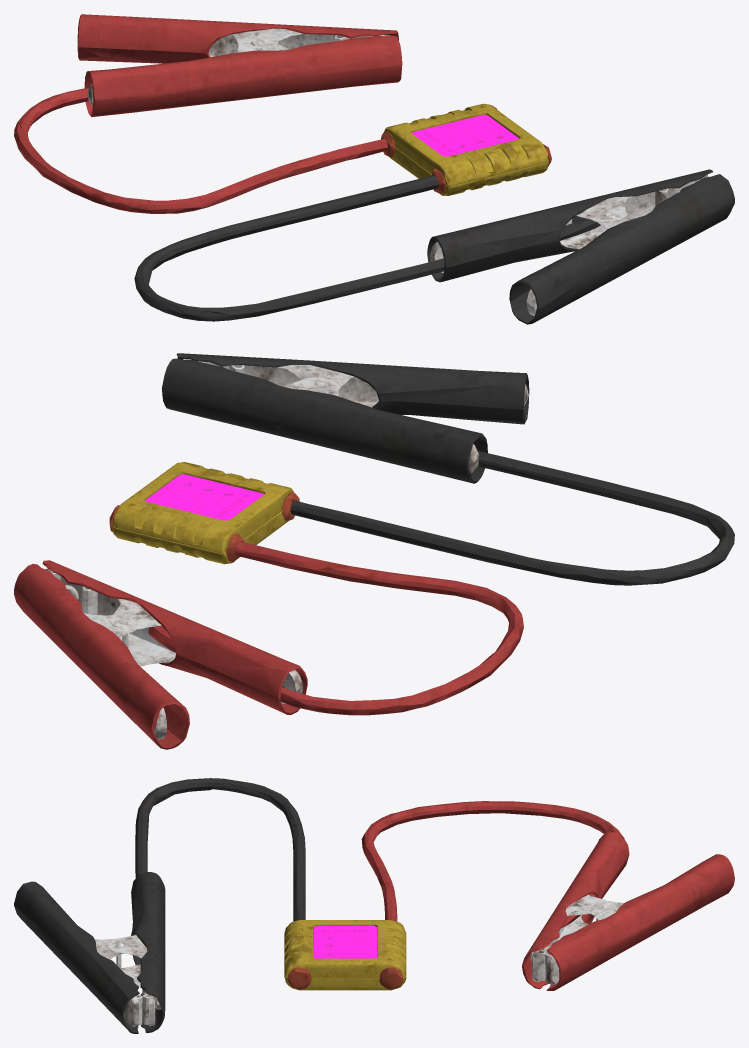
The model's file is craft_r21_leech_collar.glb.
3 renders of one model, top to bottom at view 1: azimuth 30°, elevation 25°; view 2: azimuth 150°, elevation 25°; view 3: azimuth 270°, elevation 25°, orthographic. The views are drawn at different scales.
Visible parts, largest first — view 1: craft_r21_leech_collar; view 2: craft_r21_leech_collar; view 3: craft_r21_leech_collar.
Part boxes in pixels (<box>): craft_r21_leech_collar: <box>14,14,734,324</box>; craft_r21_leech_collar: <box>14,353,734,749</box>; craft_r21_leech_collar: <box>14,778,734,1033</box>.
Bounding box in the file's own units: 0.3698 × 0.0296 × 0.4728.
7 materials, 6 textured.
